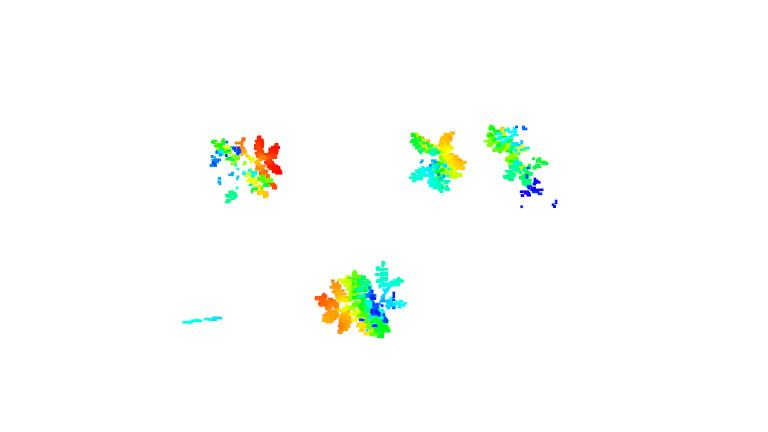chickpea: (314, 261, 408, 339), (207, 134, 284, 205), (483, 121, 551, 197), (404, 129, 471, 194)
